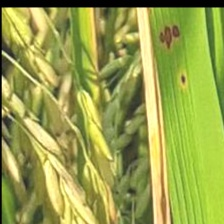Bacterial_Leaf_Blight: (156, 16, 187, 48), (175, 67, 193, 89)
